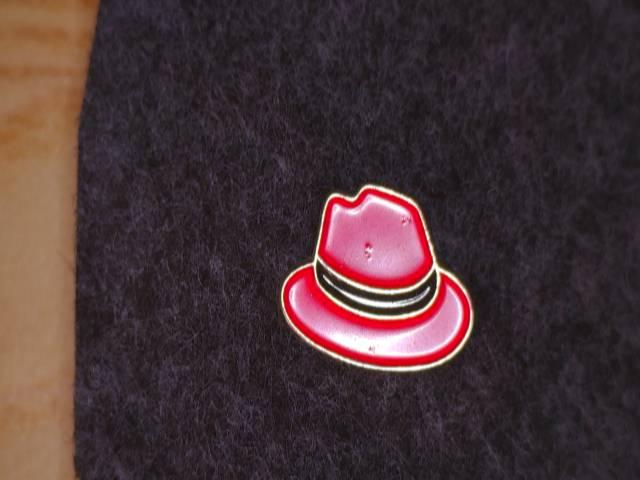Red-Hat: (262, 142, 519, 396)
